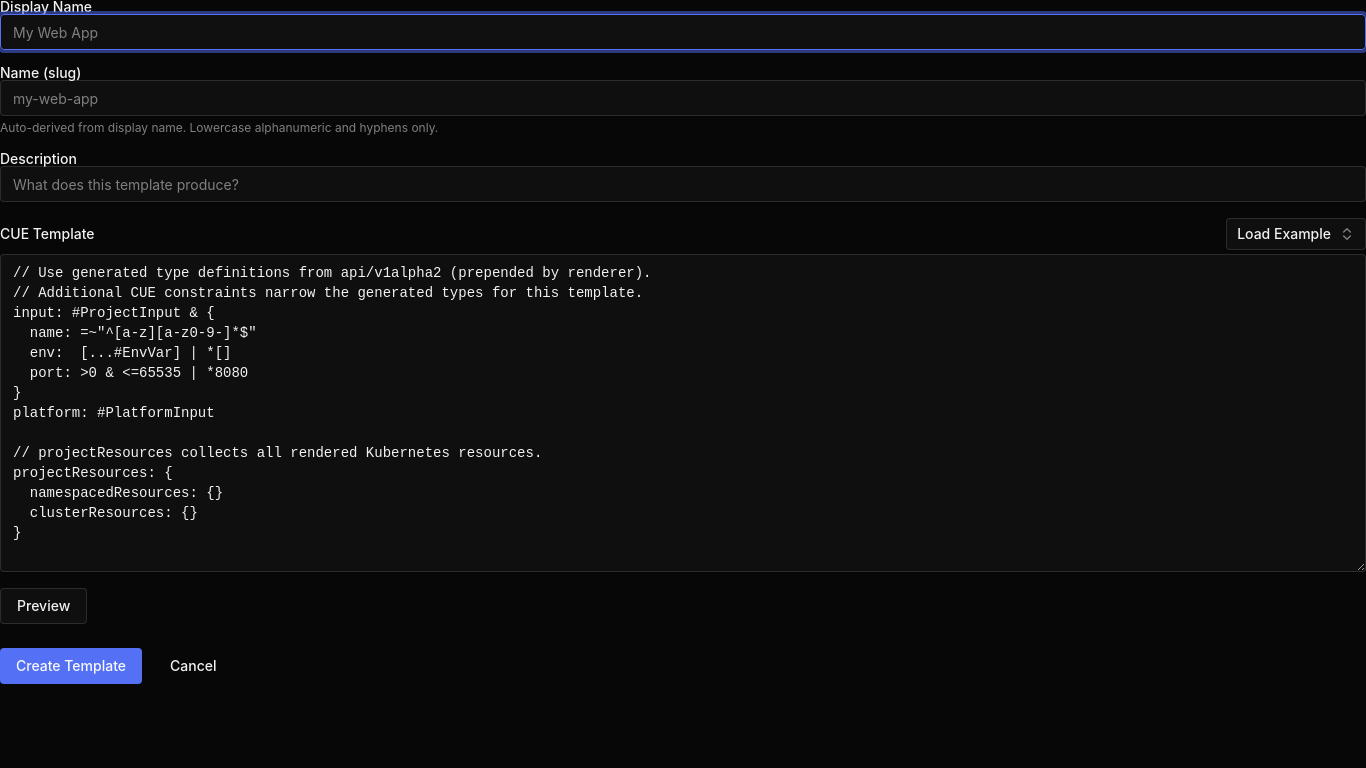
it: TemplateCreateForm — project scope › per-collection preview sections › shows platform empty-state message when platform JSON is empty
The width and height of the screenshot is (1366, 768).
Click the button "Preview" at point(44, 606), box [0, 588, 87, 624]
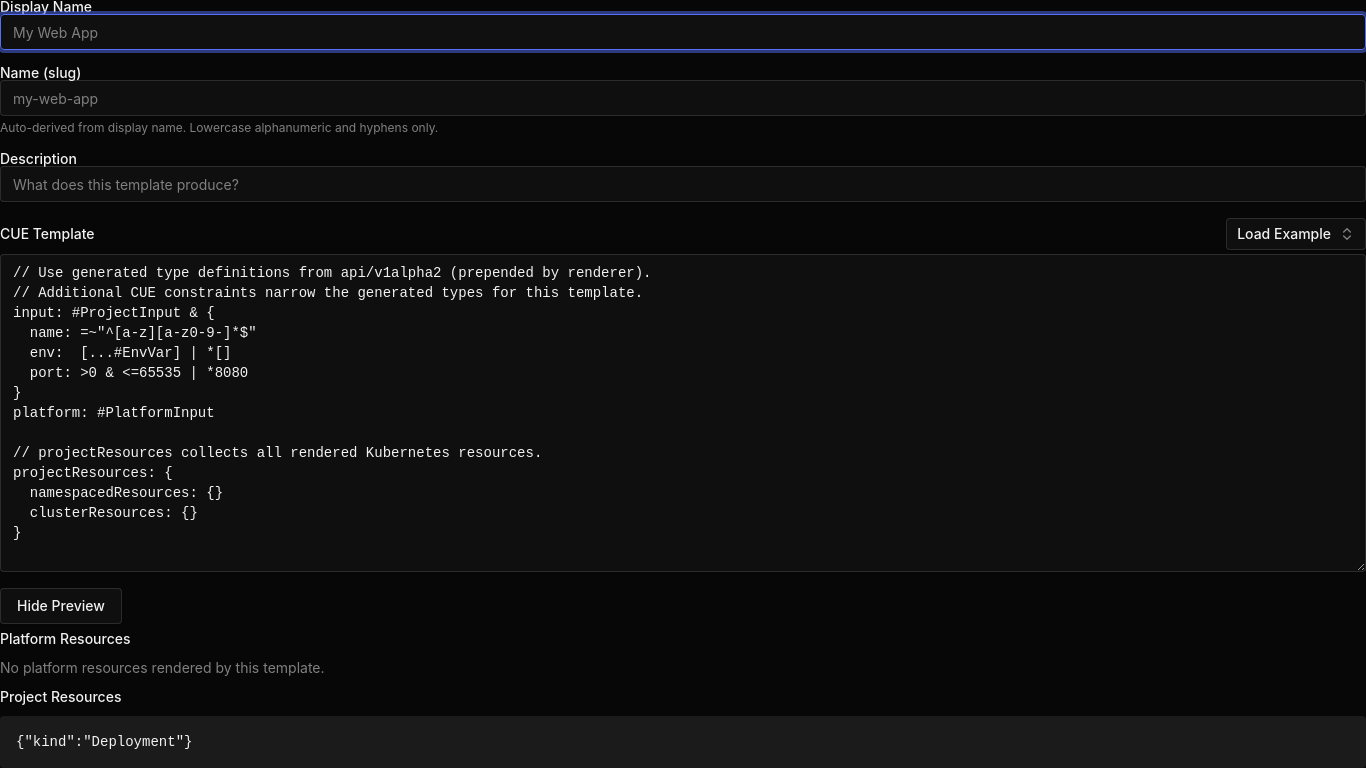
Expected: the text "Platform Resources" is shown, [0, 630, 130, 647]
Expected: the text "No platform resources rendered by this template." is shown, [0, 659, 324, 676]
Expected: the text named "Project Resources JSON" shows "Deployment", [16, 734, 192, 750]
